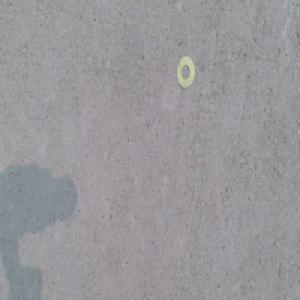Washer: (176, 56, 195, 86)
